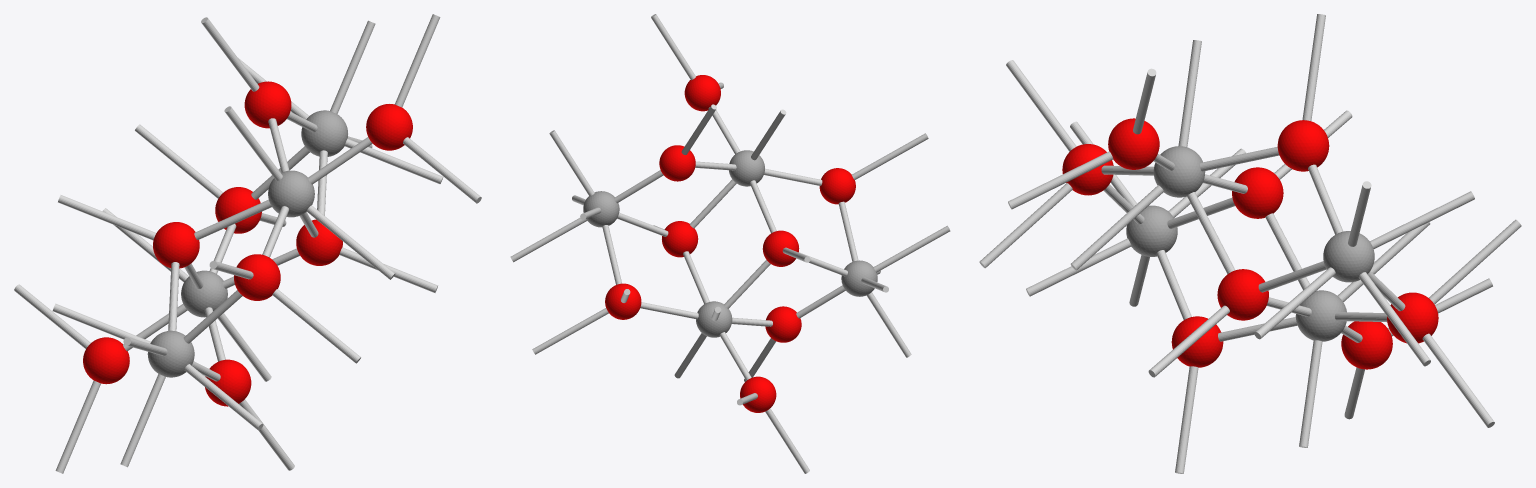
The model's file is structure_mpstyle.glb.
3 views of the same model, side by side, from view 1: azimuth 30°, elevation 25°; view 2: azimuth 150°, elevation 25°; view 3: azimuth 270°, elevation 25° (orthographic). The views are drawn at different scales.
Parts seen in each view (by area): view 1: world; view 2: world; view 3: world.
Boxes of the visible parts, left/top/right/bottom form: world: left=14, top=14, right=481, bottom=473; world: left=510, top=14, right=950, bottom=473; world: left=979, top=14, right=1521, bottom=473.
Size of the model in its own units: 8.02 by 8.59 by 8.41.
